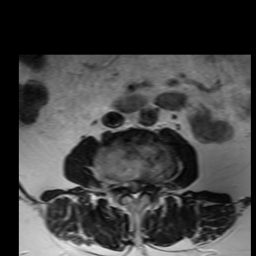CCS_normal: (131, 174, 138, 204)
LFS_severe_stenosis: (146, 174, 154, 195)
LLS_severe_stenosis: (138, 174, 146, 197)
RFS_stenosis: (114, 172, 123, 195)
RLS_stenosis: (123, 172, 131, 195)
